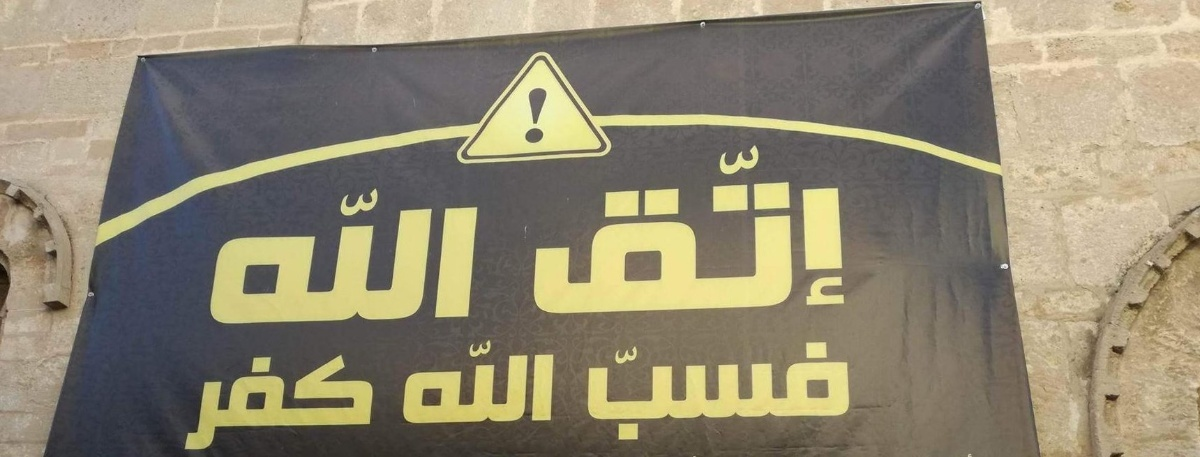text: (545, 144, 560, 318), (561, 144, 576, 318), (577, 144, 592, 318), (593, 144, 608, 318), (609, 144, 624, 318), (625, 144, 640, 318), (641, 144, 656, 318), (657, 144, 672, 318), (673, 144, 688, 318), (689, 144, 704, 318), (705, 144, 720, 318), (721, 144, 736, 318), (737, 144, 752, 318), (753, 144, 768, 318), (769, 144, 784, 318), (785, 144, 800, 318), (801, 144, 816, 318), (817, 144, 832, 318), (833, 144, 847, 318), (241, 183, 256, 326), (257, 183, 272, 326), (273, 183, 288, 326), (289, 183, 304, 326), (305, 183, 320, 326), (321, 183, 336, 326), (337, 183, 352, 326), (353, 183, 368, 326), (369, 183, 384, 326), (385, 183, 400, 326), (401, 183, 416, 326), (417, 183, 432, 326), (433, 183, 448, 326), (449, 183, 464, 326), (465, 183, 480, 326), (227, 183, 240, 326), (593, 340, 608, 448), (609, 340, 624, 448), (625, 340, 640, 448), (641, 340, 656, 448), (657, 340, 672, 448), (673, 340, 688, 448), (689, 340, 704, 448), (705, 340, 720, 448), (721, 340, 736, 448), (737, 340, 752, 448), (753, 340, 768, 448), (769, 340, 784, 448), (785, 340, 800, 448), (801, 340, 816, 448), (817, 340, 832, 448), (833, 340, 848, 448), (209, 354, 224, 453), (225, 354, 240, 453), (241, 354, 256, 453), (257, 354, 272, 453), (273, 354, 288, 453), (289, 354, 304, 453), (305, 354, 320, 453), (321, 354, 336, 453), (337, 354, 352, 453), (353, 354, 368, 453), (417, 339, 432, 424), (433, 339, 448, 424), (449, 339, 464, 424), (465, 339, 480, 424), (481, 339, 496, 424), (497, 339, 512, 424), (513, 339, 528, 424), (529, 339, 544, 424), (369, 354, 381, 453), (545, 339, 557, 424), (406, 339, 416, 424), (586, 340, 592, 448), (541, 144, 544, 318), (204, 354, 208, 453), (849, 340, 852, 448), (481, 183, 483, 326)
